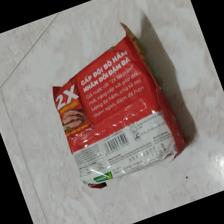3mien: (51, 22, 186, 190)
